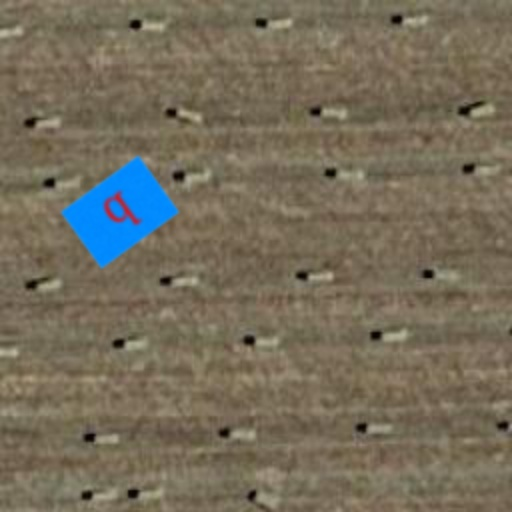rectangle: (52, 144, 188, 280)
